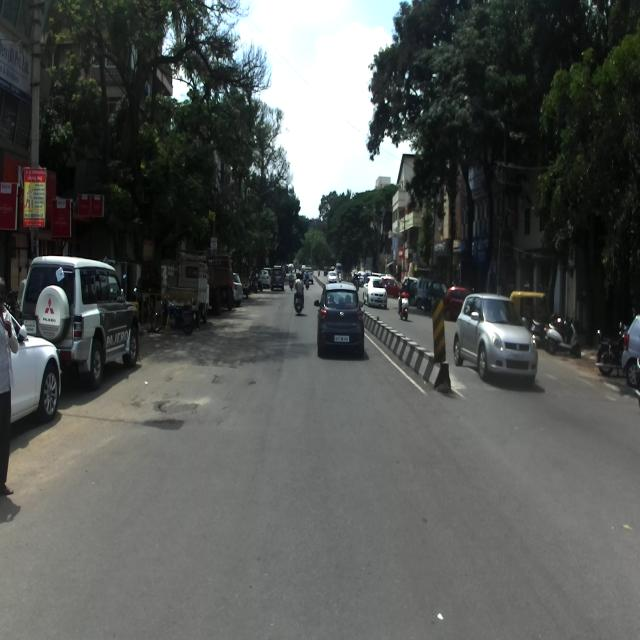car ahead at: (25, 260, 143, 382), (454, 288, 536, 382), (318, 275, 368, 364)
